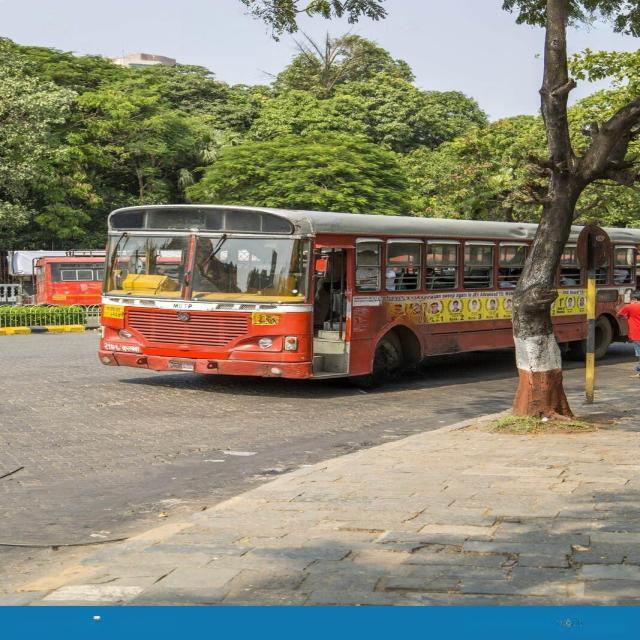bus: (95, 204, 539, 384)
